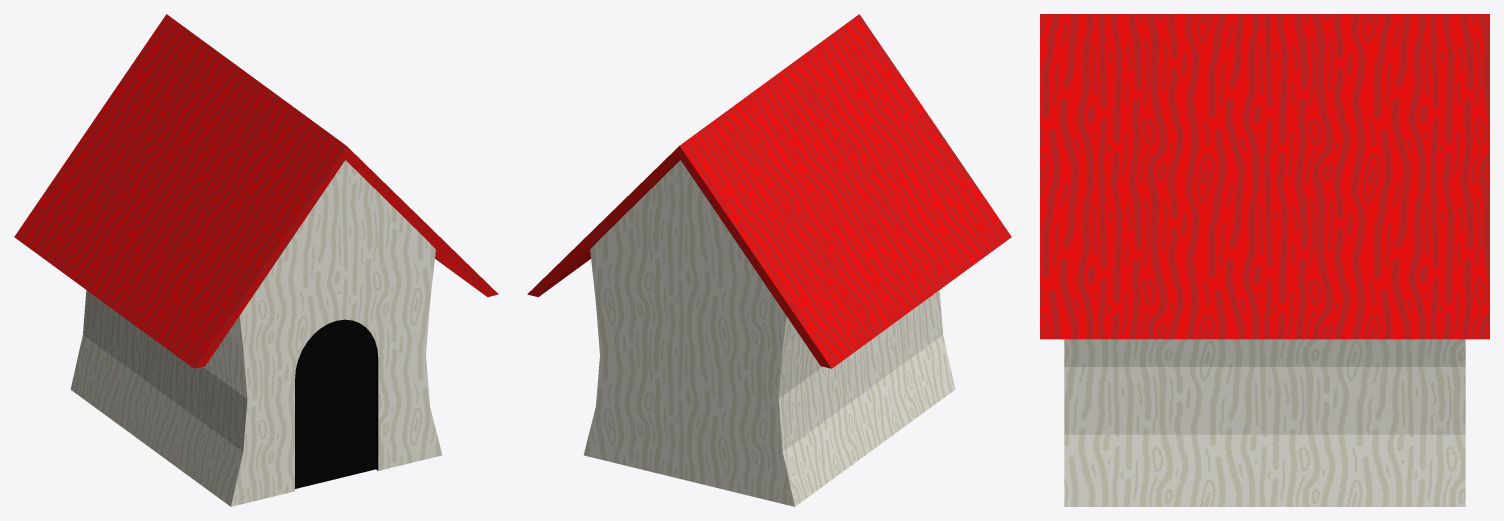
Rendered from DogHouse.fbx.
3 renders of one model, left to right at view 1: azimuth 30°, elevation 25°; view 2: azimuth 150°, elevation 25°; view 3: azimuth 270°, elevation 25°, orthographic. The views are drawn at different scales.
Parts seen in each view (by area): view 1: House; view 2: House; view 3: House.
Part boxes in pixels (x1=…): House: x1=14, y1=14, x2=498, y2=506; House: x1=527, y1=14, x2=1011, y2=506; House: x1=1040, y1=14, x2=1489, y2=506.
Bounding box in the file's own units: 307 × 330 × 314.
